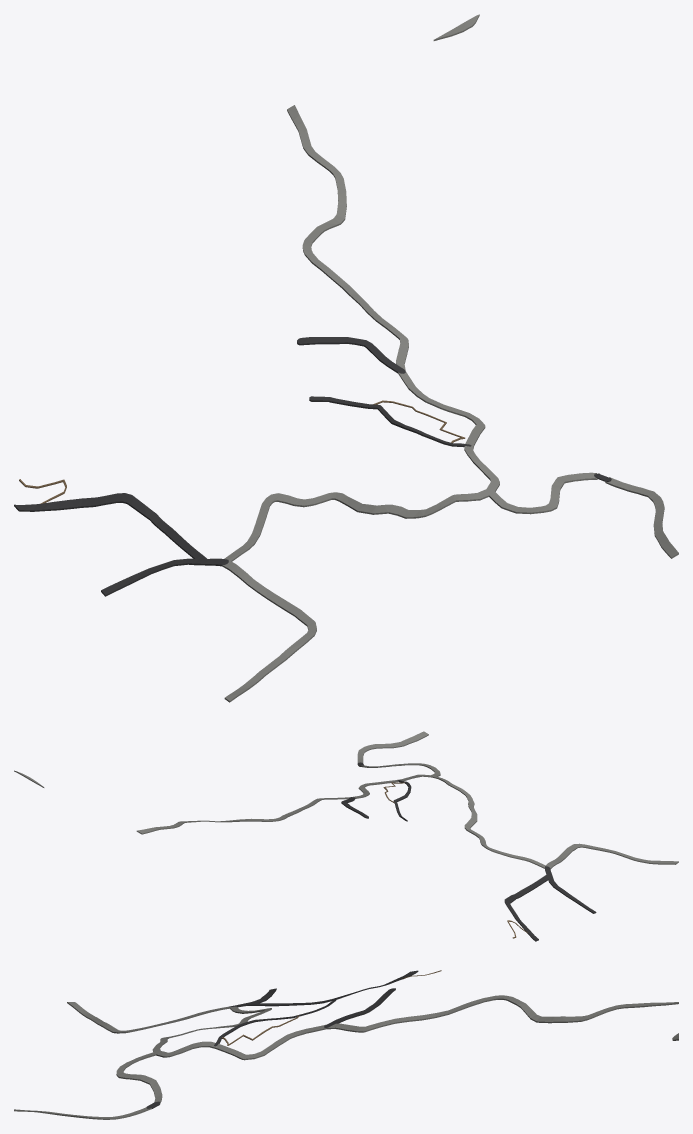
3 renders of one model, top to bottom at view 1: azimuth 30°, elevation 25°; view 2: azimuth 150°, elevation 25°; view 3: azimuth 270°, elevation 25°, orthographic. The views are drawn at different scales.
Bounding box in the file's own units: 516 × 205 × 583.
